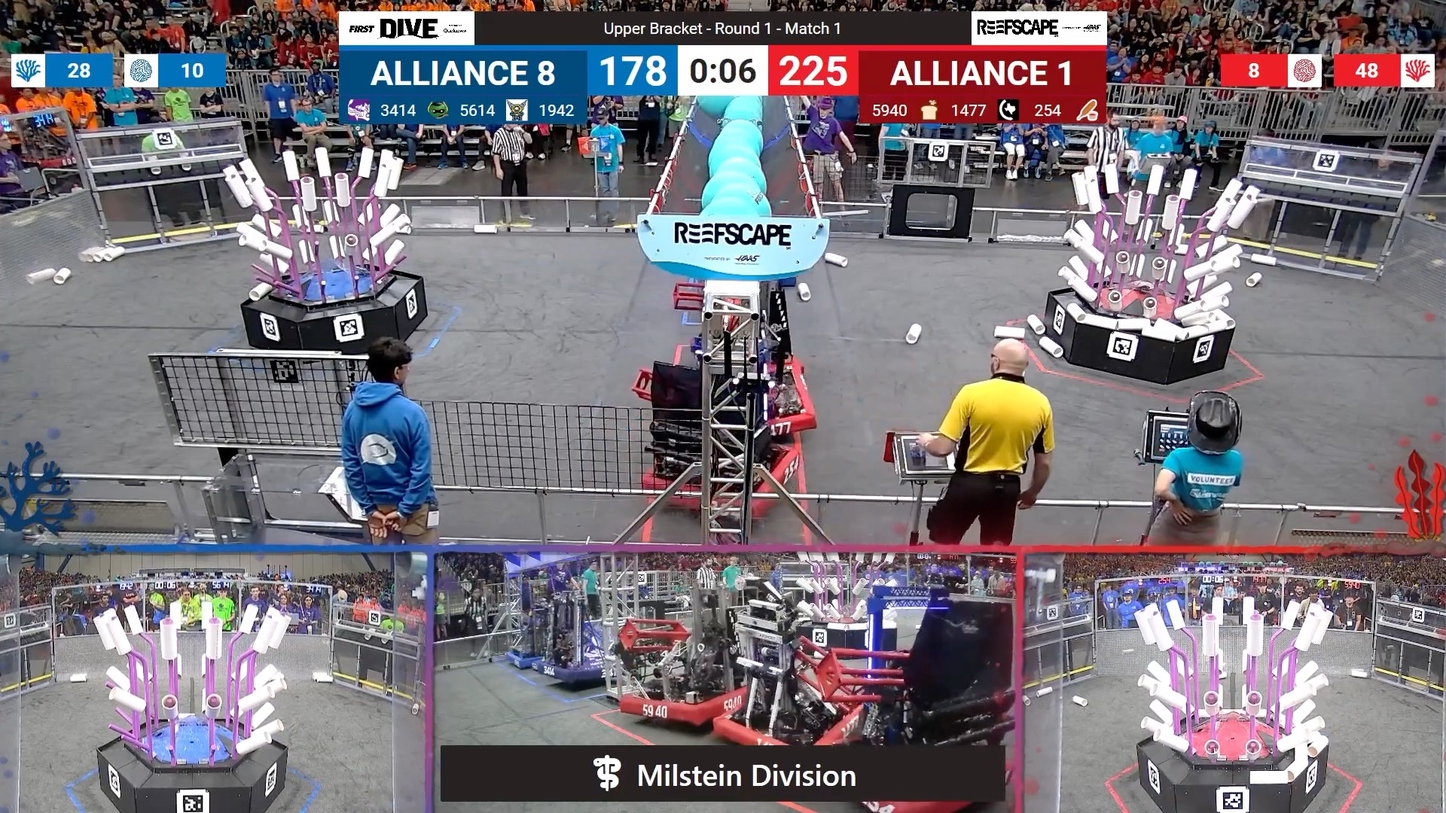bumpers: (633, 436, 806, 521), (713, 691, 869, 744), (622, 680, 752, 722), (760, 356, 818, 435), (518, 656, 628, 687), (503, 652, 555, 671)
